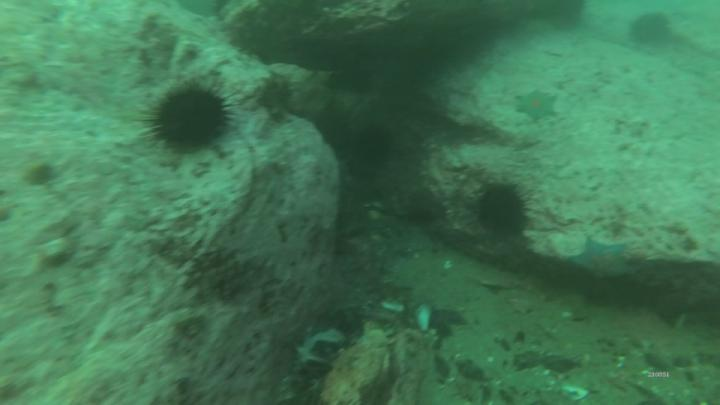echinus: (156, 92, 228, 151), (483, 185, 526, 236), (355, 125, 389, 169), (630, 14, 671, 45)
starfish: (571, 239, 633, 283), (517, 89, 555, 121), (260, 84, 291, 118)
